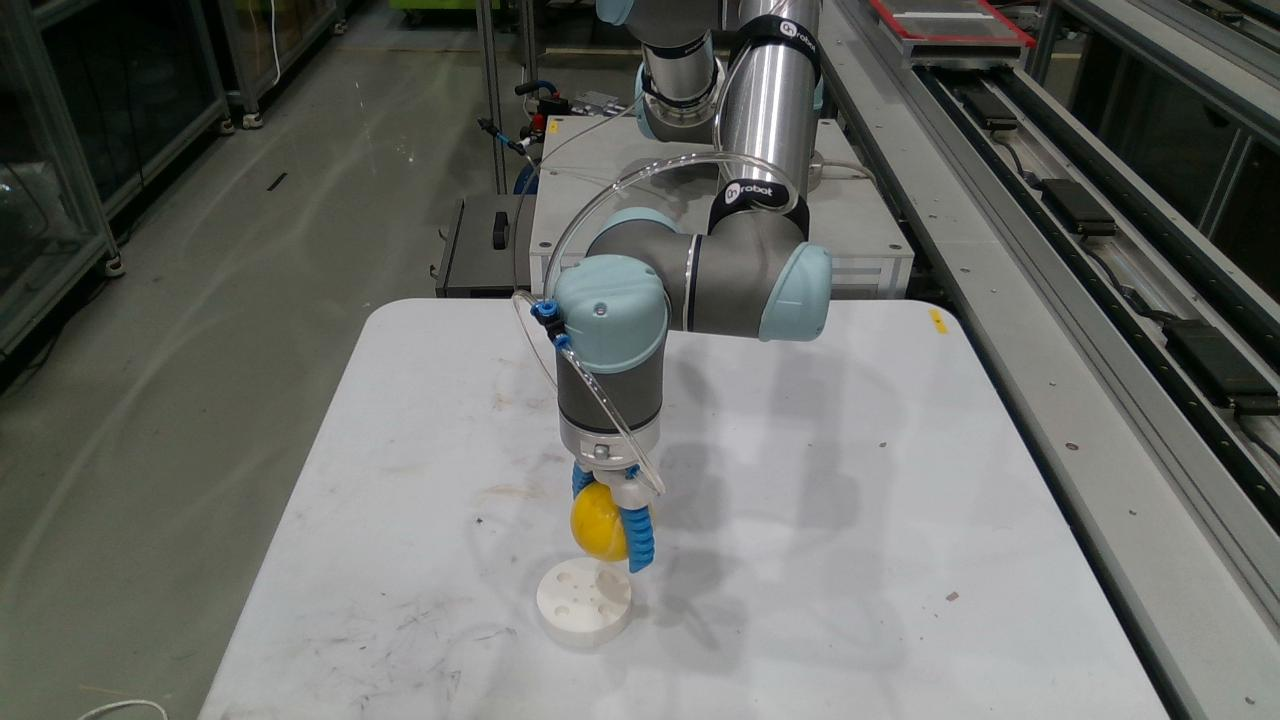UR5: (554, 0, 832, 509)
gripper_left: (571, 461, 594, 501)
gripper_right: (620, 506, 655, 572)
target: (535, 557, 632, 647), (570, 482, 628, 563)
